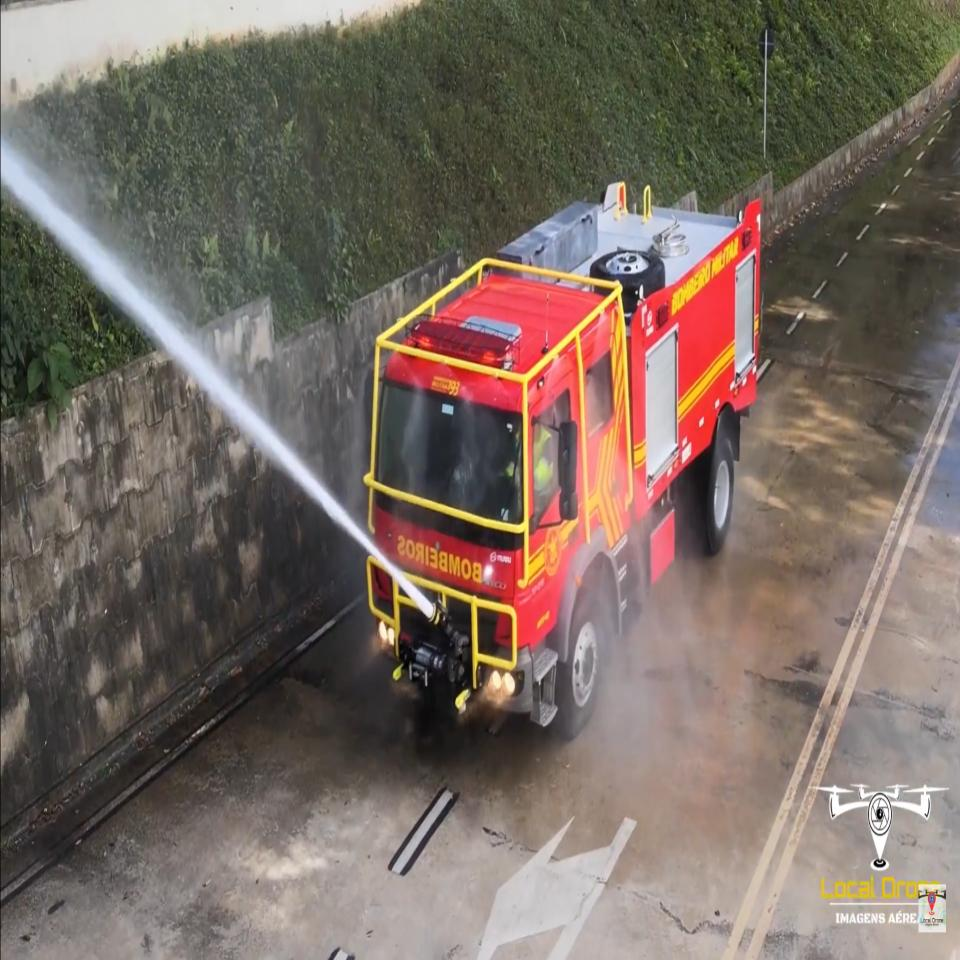viatura: (365, 178, 763, 741)
